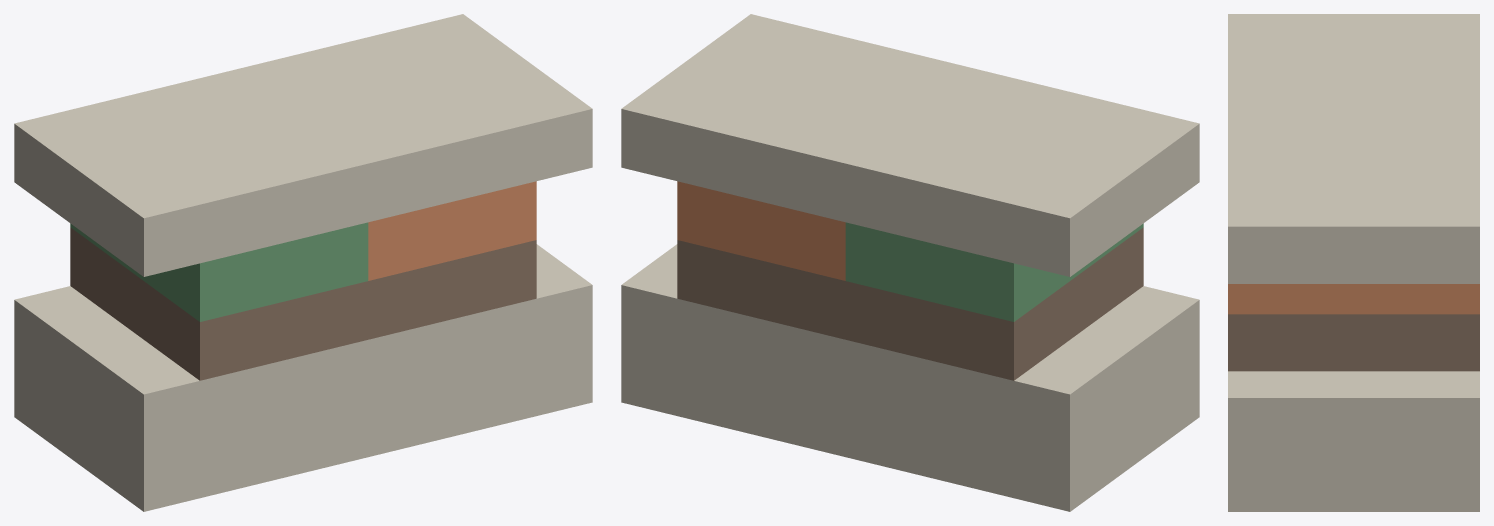
Rendered from kebab.glb.
3 views of the same model, side by side, from view 1: azimuth 30°, elevation 25°; view 2: azimuth 150°, elevation 25°; view 3: azimuth 270°, elevation 25° (orthographic). The views are drawn at different scales.
Parts seen in each view (by area): view 1: main; view 2: main; view 3: main.
Boxes of the visible parts, x1,y1,x2,y2 form: main: (14,14,592,511); main: (621,14,1199,511); main: (1228,14,1479,511).
Size of the model in its own units: 0.5 by 0.3125 by 0.25.
